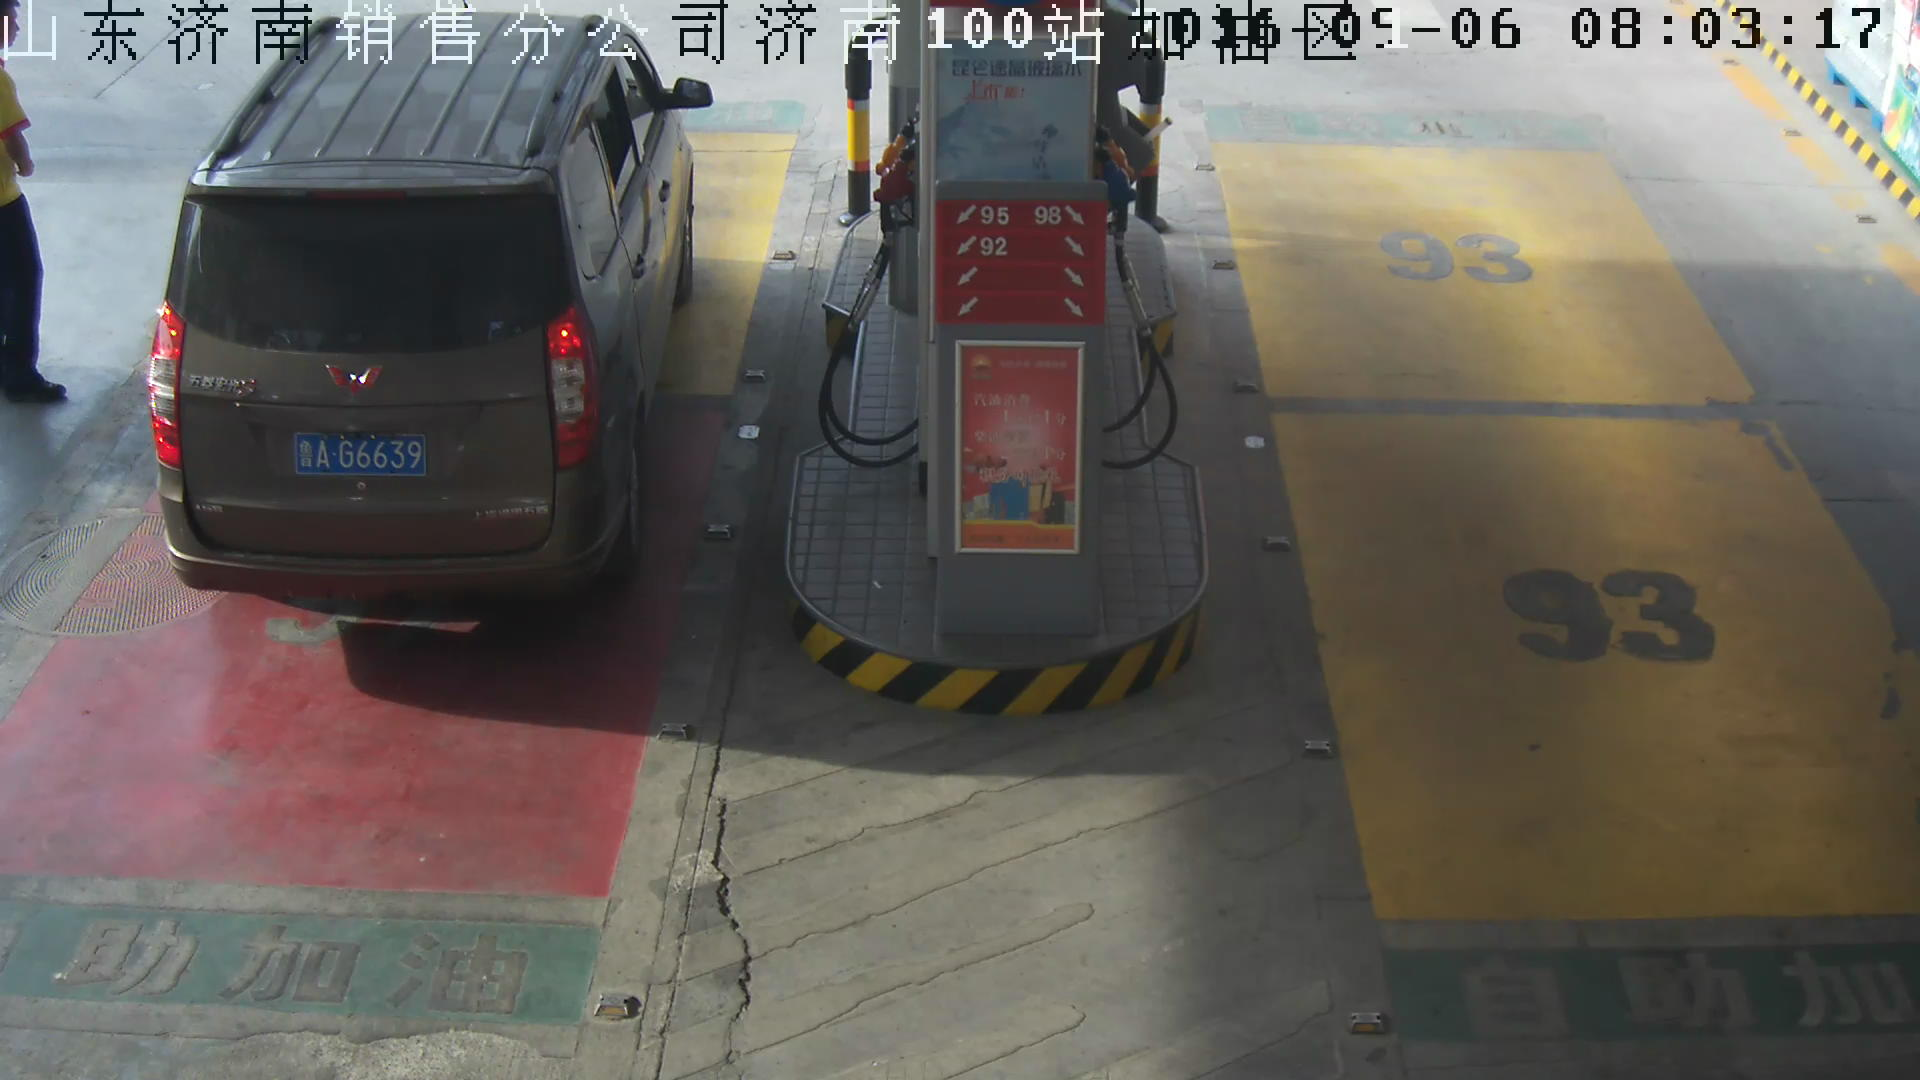blue: (291, 430, 430, 479)
